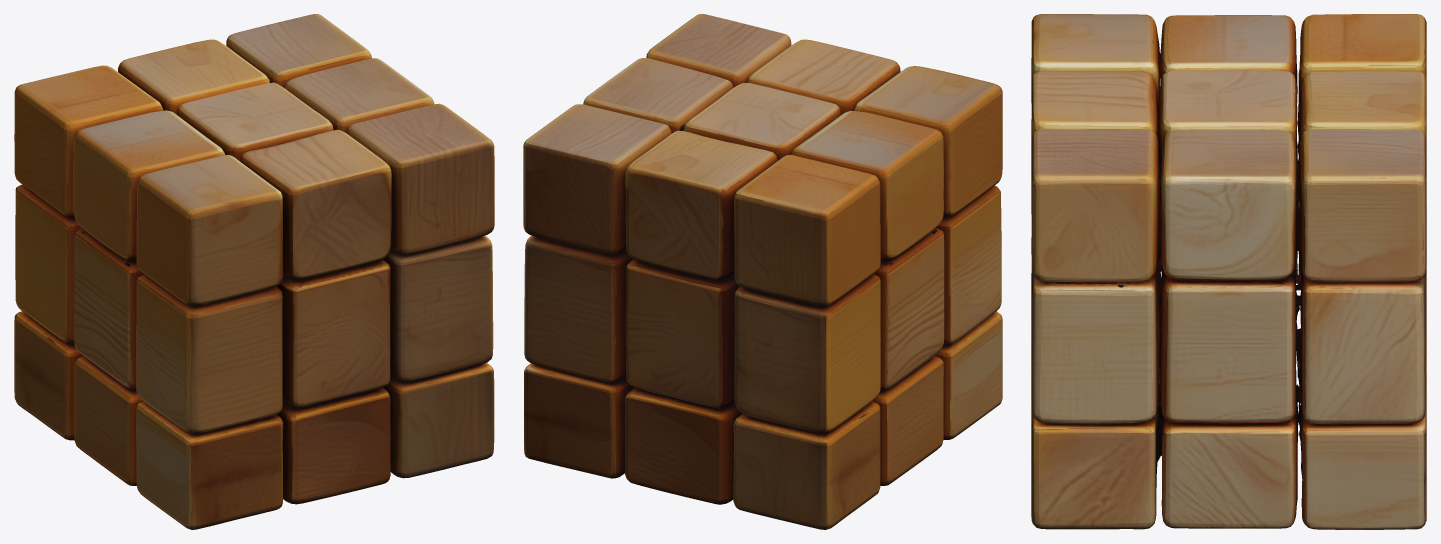
The model's file is wooden-rubik-cube-style-puzzle-rustic.jpeg.glb.
The picture shows the model from 3 angles, left to right: view 1: azimuth 30°, elevation 25°; view 2: azimuth 150°, elevation 25°; view 3: azimuth 270°, elevation 25°; orthographic projection. The views are drawn at different scales.
Visible parts, largest first — view 1: world; view 2: world; view 3: world.
Part boxes in pixels (x1=…): world: x1=14, y1=14, x2=494, y2=529; world: x1=523, y1=14, x2=1002, y2=529; world: x1=1031, y1=14, x2=1426, y2=529.
Bounding box in the file's own units: 0.9985 × 0.9963 × 1.
1 material, 1 textured.
